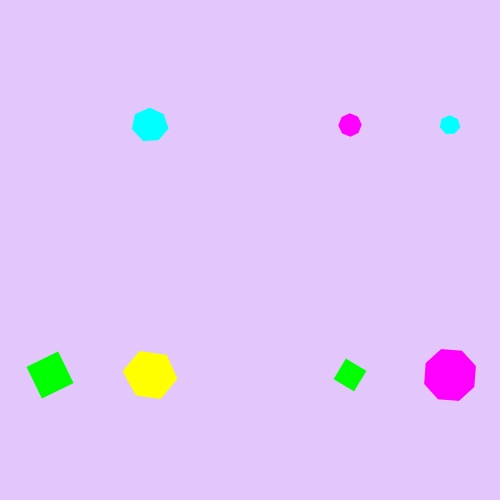heptagon: (129, 104, 172, 146), (436, 111, 465, 139)
hexagon: (119, 350, 181, 401)
octagon: (420, 345, 481, 406), (334, 109, 366, 141)
quadrilateral: (22, 347, 78, 403), (330, 355, 371, 396)
